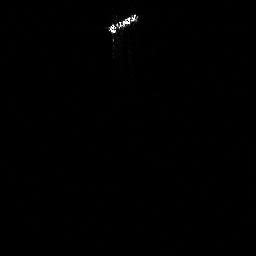ship: (105, 11, 141, 36)
